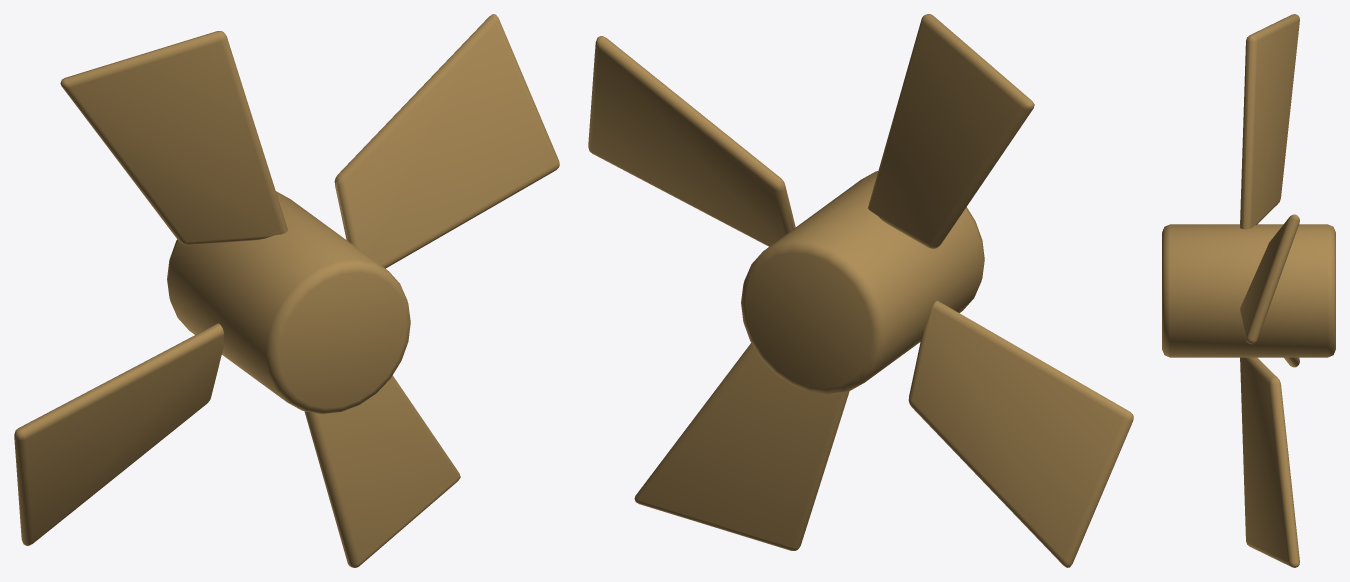
The model's file is bronze_propeller.glb.
3 renders of one model, left to right at view 1: azimuth 30°, elevation 25°; view 2: azimuth 150°, elevation 25°; view 3: azimuth 270°, elevation 25°, orthographic. The views are drawn at different scales.
Parts seen in each view (by area): view 1: Bronze propeller hub, Swept bronze propeller blade, Swept bronze propeller blade.001, Swept bronze propeller blade.002, Swept bronze propeller blade.003; view 2: Bronze propeller hub, Swept bronze propeller blade.002, Swept bronze propeller blade.003, Swept bronze propeller blade.001, Swept bronze propeller blade; view 3: Bronze propeller hub, Swept bronze propeller blade.001, Swept bronze propeller blade.003, Swept bronze propeller blade.
Boxes of the visible parts, x1,y1,x2,y2 form: Bronze propeller hub: [167, 191, 410, 413]; Swept bronze propeller blade: [334, 14, 559, 268]; Swept bronze propeller blade.001: [60, 31, 287, 245]; Swept bronze propeller blade.002: [14, 323, 223, 545]; Swept bronze propeller blade.003: [304, 375, 460, 567]; Bronze propeller hub: [741, 171, 984, 394]; Swept bronze propeller blade.002: [908, 300, 1133, 567]; Swept bronze propeller blade.003: [634, 343, 849, 550]; Swept bronze propeller blade.001: [868, 14, 1034, 248]; Swept bronze propeller blade: [588, 36, 795, 246]; Bronze propeller hub: [1162, 224, 1335, 357]; Swept bronze propeller blade.001: [1240, 14, 1299, 229]; Swept bronze propeller blade.003: [1240, 357, 1299, 567]; Swept bronze propeller blade: [1240, 214, 1299, 344].
Bounding box in the file's own units: 0.7553 × 0.7553 × 0.26.
